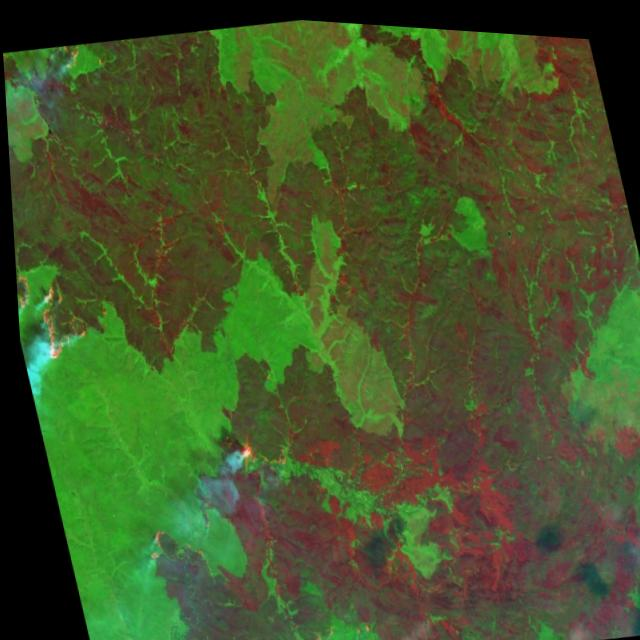fire: (103, 404, 368, 640), (11, 245, 114, 380), (2, 33, 117, 121)
